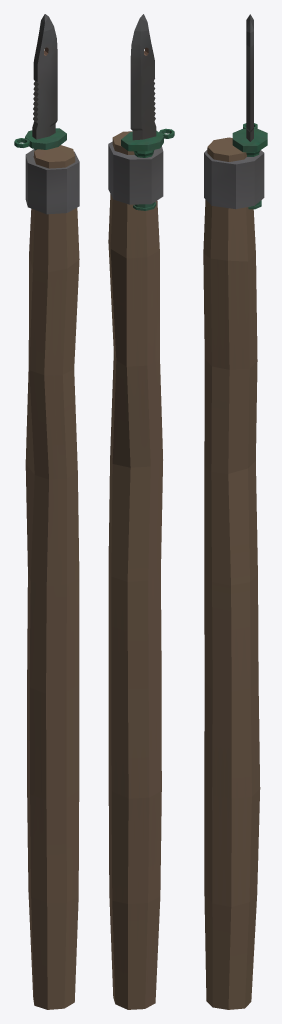
File: KnifeTippedStuff.fbx
3 renders of one model, left to right at view 1: azimuth 30°, elevation 25°; view 2: azimuth 210°, elevation 25°; view 3: azimuth 270°, elevation 25°, orthographic.
Parts seen in each view (by area): view 1: F_SpearBayonetBlade; view 2: F_SpearBayonetBlade; view 3: F_SpearBayonetBlade.
Boxes of the visible parts, left/top/right/bottom form: F_SpearBayonetBlade: left=14, top=14, right=79, bottom=1009; F_SpearBayonetBlade: left=108, top=14, right=174, bottom=1009; F_SpearBayonetBlade: left=203, top=14, right=267, bottom=1009.
Size of the model in its own units: 0.0381 by 0.6886 by 0.0406.
